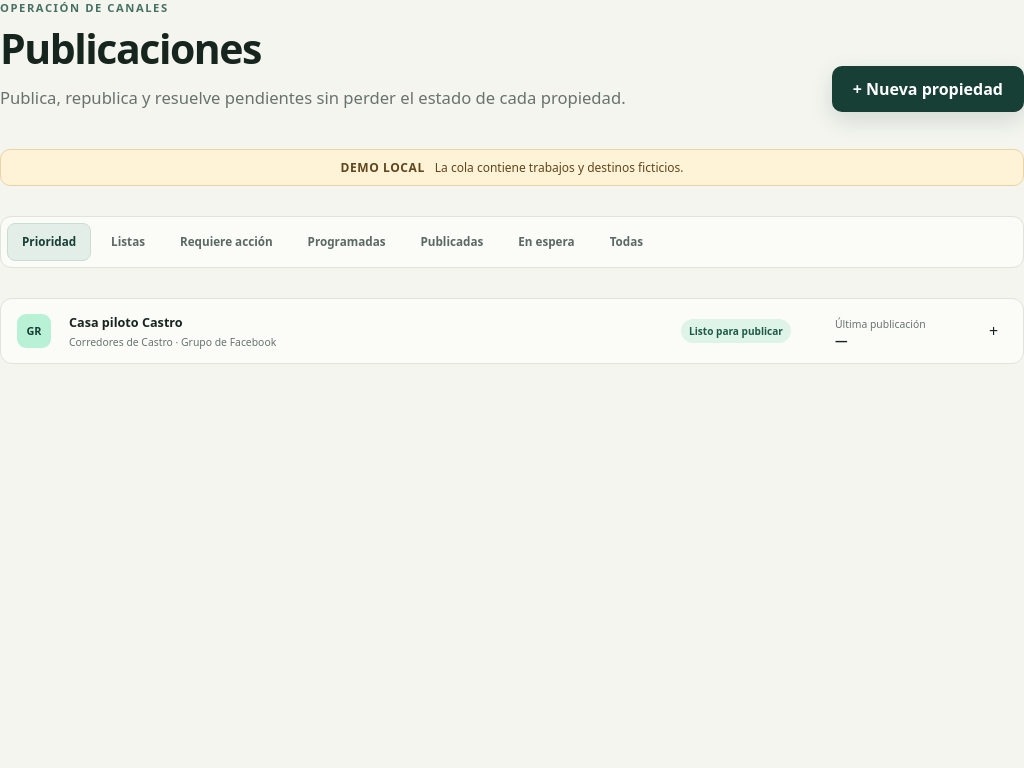
PublicationsPage › expone la cola prioritaria y reutiliza el flujo asistido del servidor
Click the text "Casa piloto Castro" at (126, 322), box [69,313,183,331]
(page scrolled)
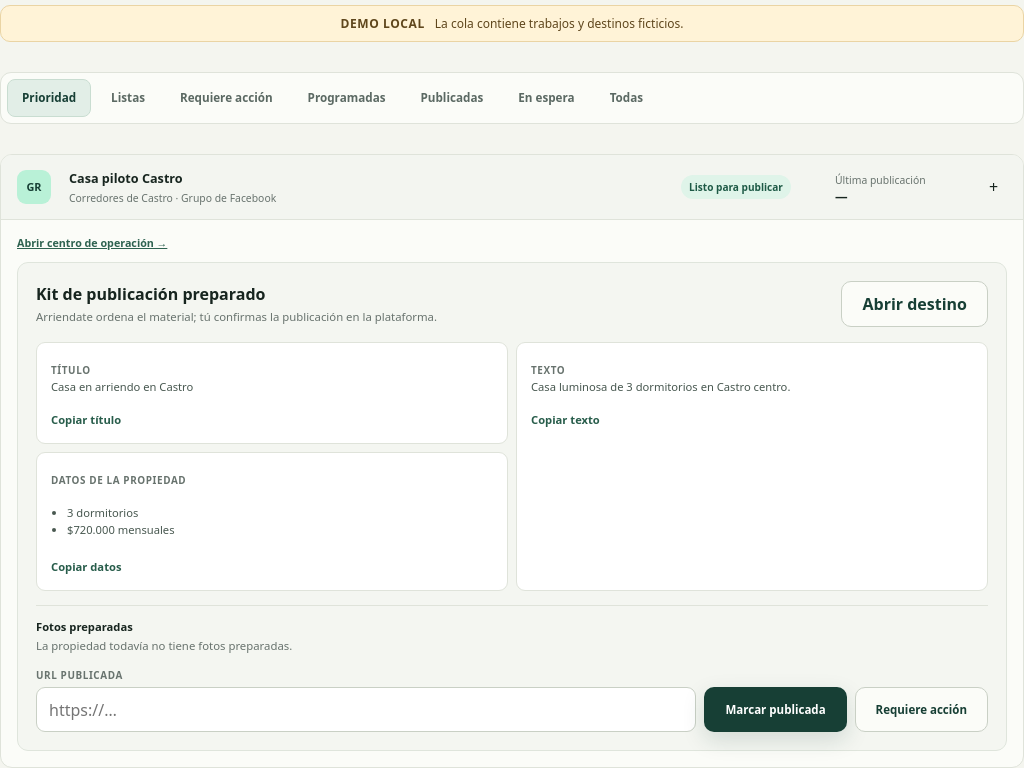
Expected: the text "Kit de publicación preparado" is shown, [36,283,265,305]
Expected: the button "Copiar título" is shown, [51,412,121,427]
Expected: the button "Marcar publicada" is shown, [704,687,847,732]
